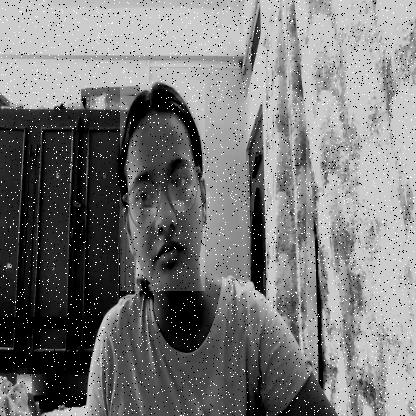Normal: (120, 80, 205, 291)
